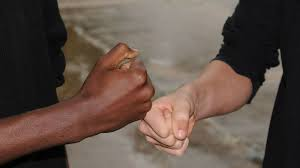fist: (99, 48, 153, 121), (143, 101, 205, 152)
